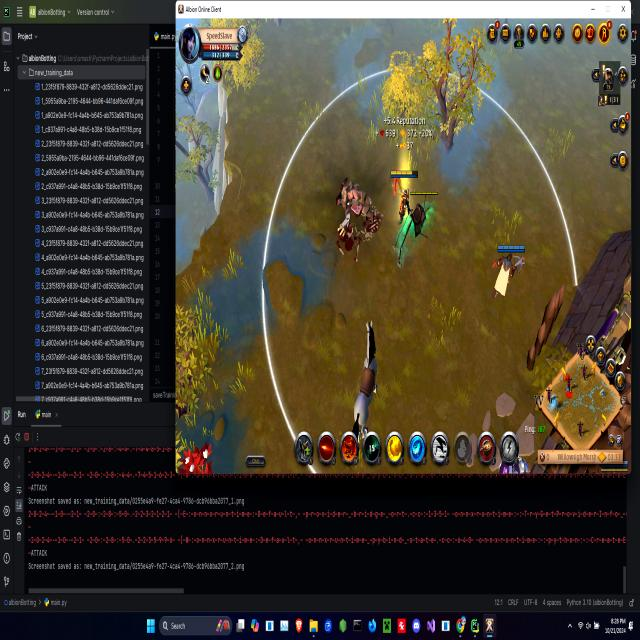hide: (175, 442, 222, 474)
red: (490, 240, 528, 308), (390, 166, 420, 229)
